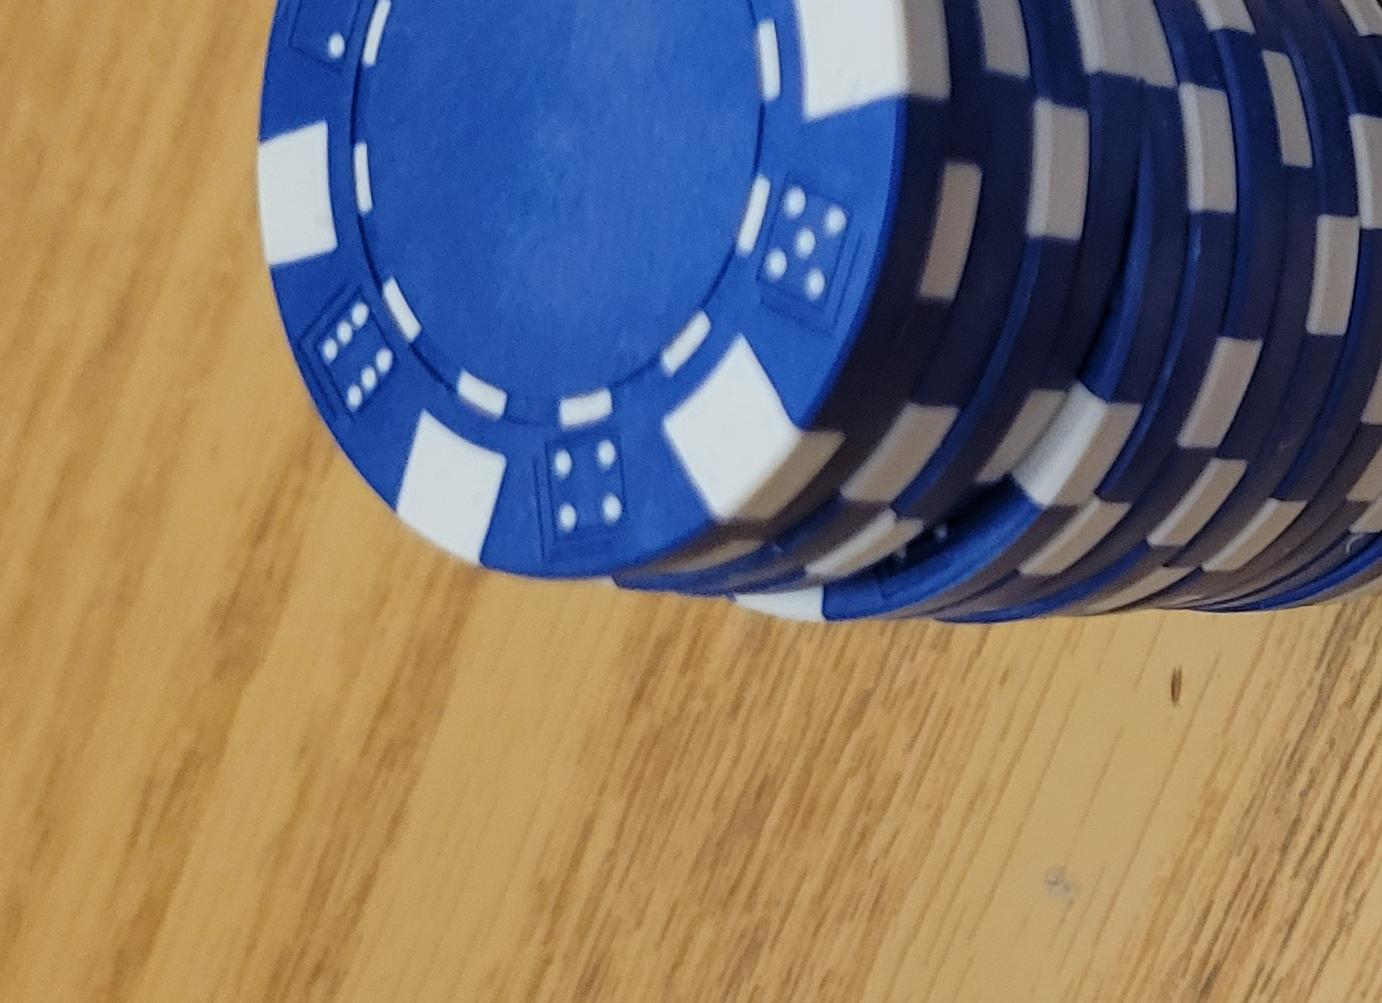Chip: (1, 370, 990, 1003)
